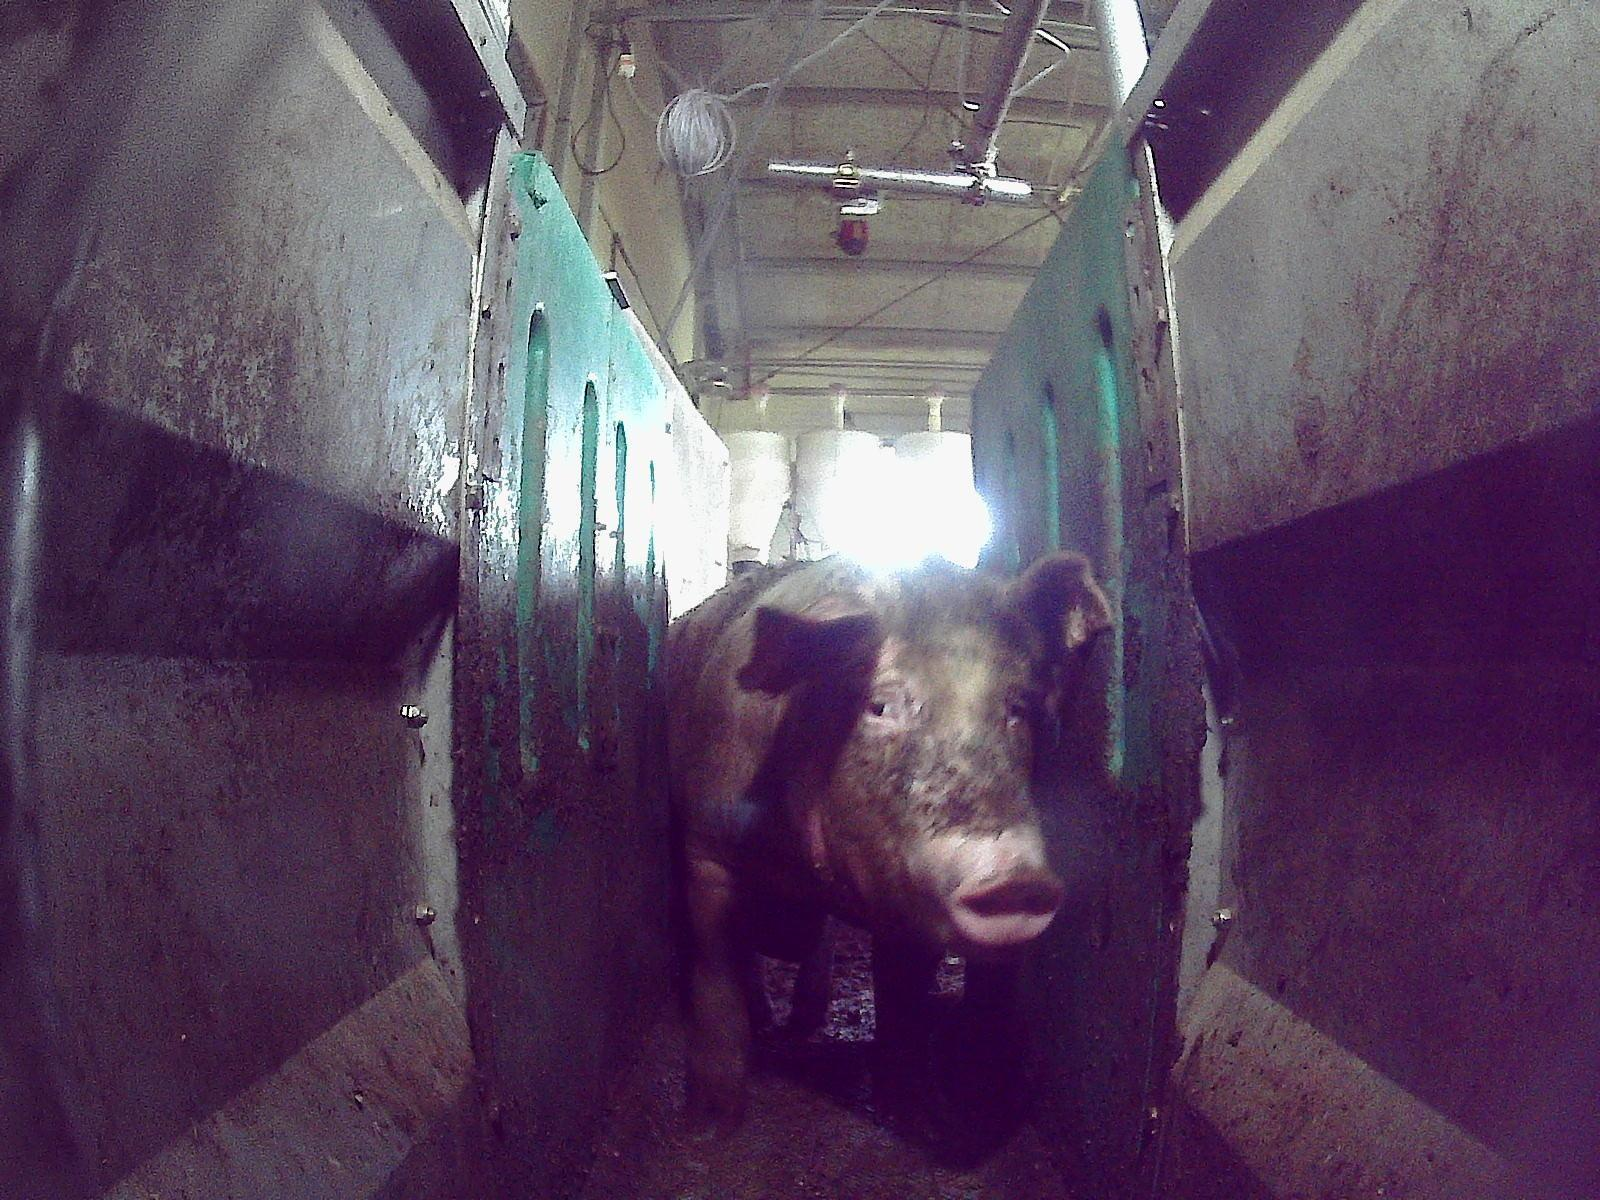Face: (780, 560, 1063, 951)
